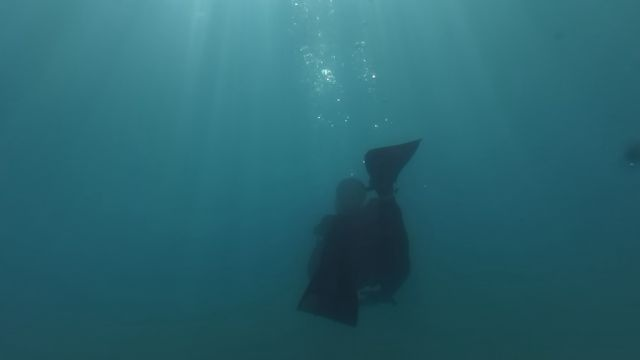Diver: (273, 129, 448, 344)
